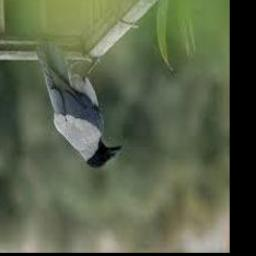Crow: (35, 44, 123, 170)
